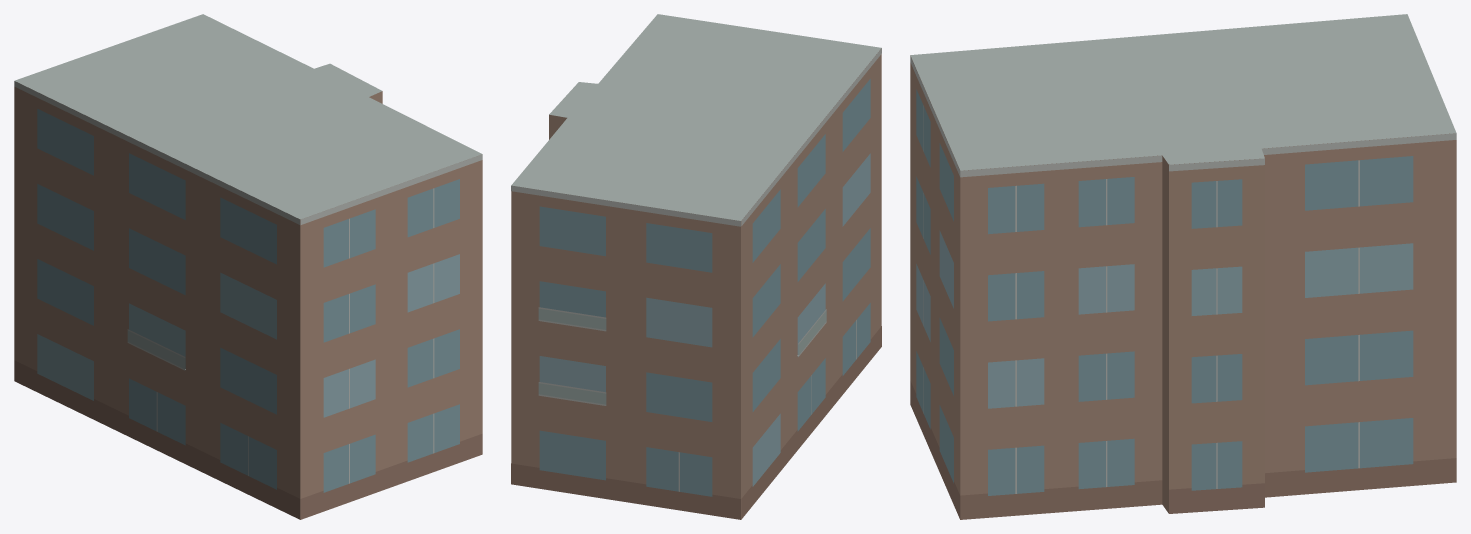
The model's file is survey-upis-32666128.glb.
3 views of the same model, side by side, from view 1: azimuth 30°, elevation 25°; view 2: azimuth 150°, elevation 25°; view 3: azimuth 270°, elevation 25° (orthographic). The views are drawn at different scales.
Parts seen in each view (by area): view 1: survey-upis-32666128.tmp; view 2: survey-upis-32666128.tmp; view 3: survey-upis-32666128.tmp.
Part boxes in pixels (x1,y1,x2,y2): survey-upis-32666128.tmp: (14,14,482,519); survey-upis-32666128.tmp: (511,14,881,519); survey-upis-32666128.tmp: (910,14,1456,519).
Bounding box in the file's own units: 12.33 × 12.8 × 18.16.
